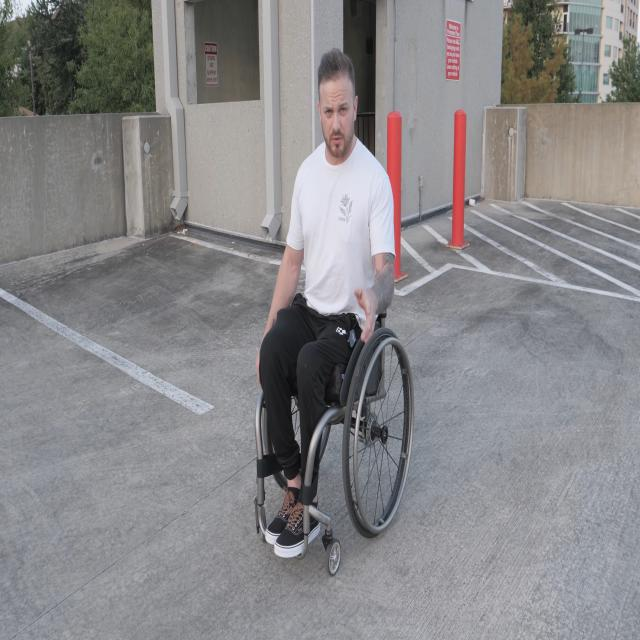wheelchairs: (252, 247, 416, 575)
